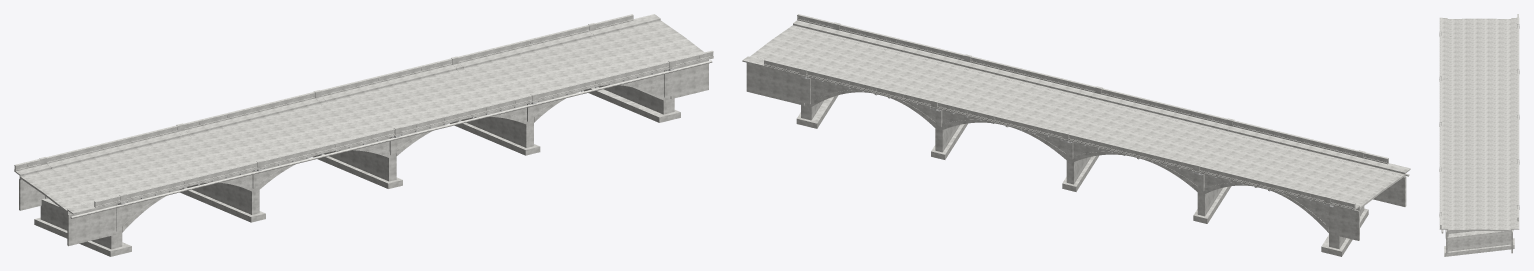
Rendered from model_render.glb.
3 views of the same model, side by side, from view 1: azimuth 30°, elevation 25°; view 2: azimuth 150°, elevation 25°; view 3: azimuth 270°, elevation 25° (orthographic). The views are drawn at different scales.
Visible parts, largest first — view 1: deck, walk_1, gas_line, walk_-1, endwall_-1_-1, pier_1, pier_2, pier_3, endwall_1_-1, parapet_1_3, parapet_1_4, parapet_1_1 (+21 smaller); view 2: deck, walk_-1, endwall_1_1, walk_1, parapet_-1_1, parapet_-1_2, parapet_-1_4, parapet_-1_3, parapet_1_3, parapet_1_1, parapet_1_2, parapet_1_4 (+16 smaller); view 3: deck, walk_1, walk_-1, pier_4, footing_4, parapet_1_1, parapet_1_2, parapet_1_3, parapet_-1_1, parapet_-1_3, parapet_-1_4, parapet_1_4 (+1 smaller).
Part boxes in pixels (bbox=[...]): deck: bbox=[23, 22, 704, 210]; walk_1: bbox=[14, 14, 662, 179]; gas_line: bbox=[70, 60, 712, 218]; walk_-1: bbox=[64, 57, 713, 214]; endwall_-1_-1: bbox=[67, 204, 115, 246]; pier_1: bbox=[186, 182, 259, 214]; pier_2: bbox=[323, 150, 396, 181]; pier_3: bbox=[461, 117, 533, 147]; endwall_1_-1: bbox=[670, 59, 708, 98]; parapet_1_3: bbox=[321, 58, 452, 96]; parapet_1_4: bbox=[458, 25, 589, 63]; parapet_1_1: bbox=[46, 125, 177, 163]; deck: bbox=[751, 27, 1402, 206]; walk_-1: bbox=[790, 20, 1410, 177]; endwall_1_1: bbox=[746, 63, 804, 105]; walk_1: bbox=[742, 56, 1362, 210]; parapet_-1_1: bbox=[1232, 120, 1358, 156]; parapet_-1_2: bbox=[1101, 88, 1227, 124]; parapet_-1_4: bbox=[839, 24, 964, 60]; parapet_-1_3: bbox=[970, 56, 1095, 92]; parapet_1_3: bbox=[937, 101, 1062, 137]; parapet_1_1: bbox=[1199, 165, 1324, 201]; parapet_1_2: bbox=[1068, 133, 1193, 169]; parapet_1_4: bbox=[806, 69, 931, 105]; deck: bbox=[1451, 18, 1507, 231]; walk_1: bbox=[1507, 17, 1519, 232]; walk_-1: bbox=[1439, 17, 1451, 232]; pier_4: bbox=[1447, 231, 1511, 251]; footing_4: bbox=[1444, 238, 1514, 256]; parapet_1_1: bbox=[1517, 24, 1518, 67]; parapet_1_2: bbox=[1517, 69, 1518, 112]; parapet_1_3: bbox=[1517, 114, 1518, 157]; parapet_-1_1: bbox=[1440, 31, 1441, 74]; parapet_-1_3: bbox=[1440, 122, 1441, 165]; parapet_-1_4: bbox=[1440, 167, 1441, 210]; parapet_1_4: bbox=[1517, 160, 1518, 202].
Size of the model in its own units: 108 by 10.01 by 17.47.
Materials: 2 (2 with a texture image).
